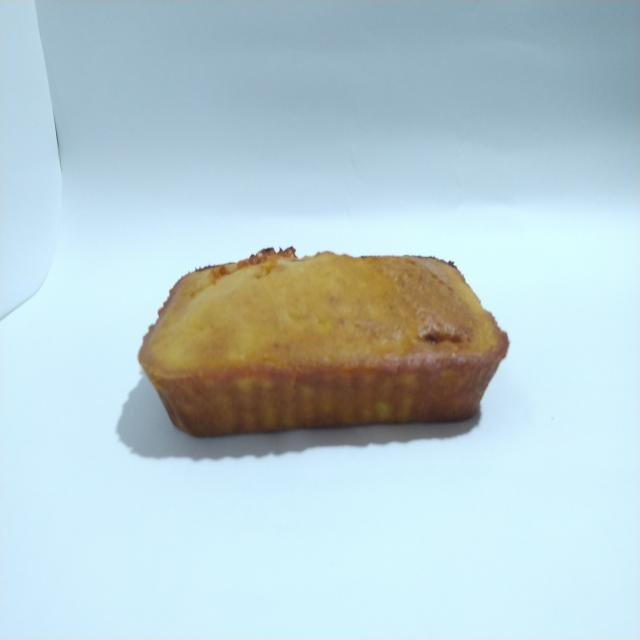Sopa: (130, 232, 510, 458)
